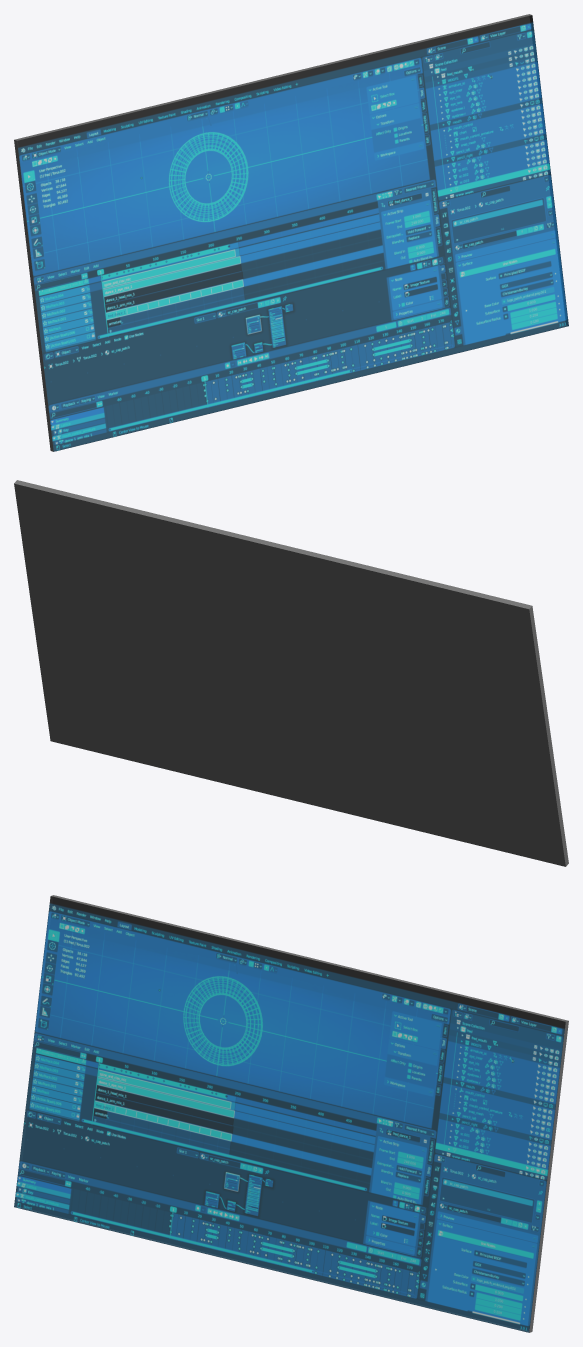
File: computer.glb
3 renders of one model, top to bottom at view 1: azimuth 30°, elevation 25°; view 2: azimuth 150°, elevation 25°; view 3: azimuth 330°, elevation 25°, orthographic.
Parts seen in each view (by area): view 1: Plane.001; view 2: Plane.001; view 3: Plane.001.
Part boxes in pixels (x1,y1,x2,y2): Plane.001: [14, 14, 568, 451]; Plane.001: [14, 480, 568, 866]; Plane.001: [14, 895, 568, 1332].
Size of the model in its own units: 4.61 by 2.44 by 0.6142.
2 materials, 1 textured.
